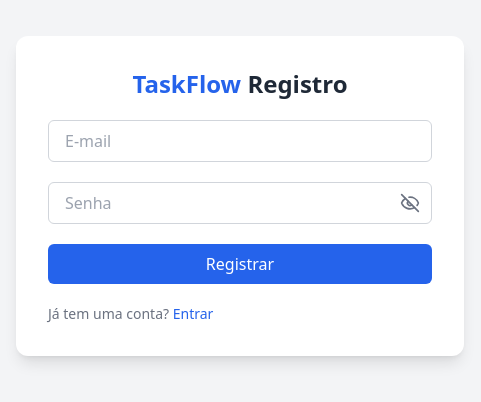
Scenario: Register Page › exibe erro genérico se erro desconhecido
The image size is (481, 402).
Type "teste@email.com" into the field with placeholder "E-mail" at x=240, y=141, box [48, 120, 432, 162]
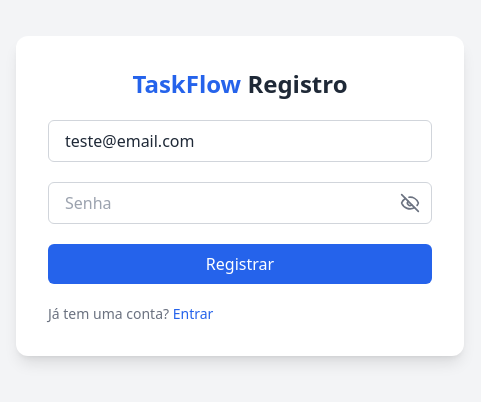
Type "123456" into the password field with placeholder "Senha" at x=240, y=203, box [48, 182, 432, 224]
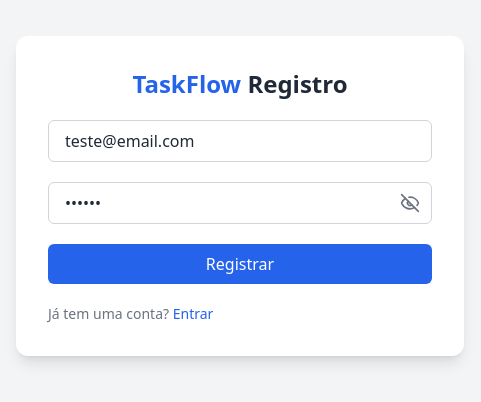
Click the button "Registrar" at x=240, y=264, box [48, 244, 432, 284]
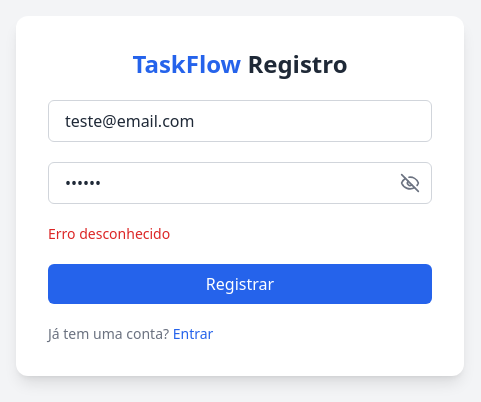
Expected: the text "Erro desconhecido" is shown, [48, 224, 170, 243]
